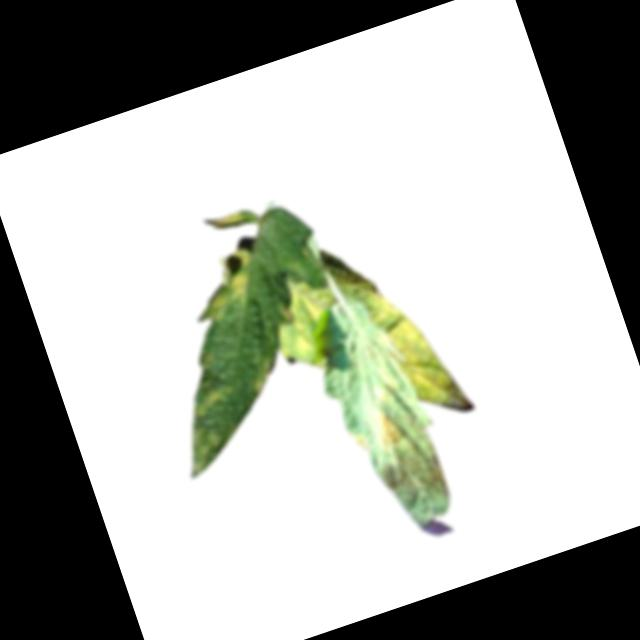Leaf_Mold: (366, 262, 477, 429), (263, 267, 350, 362), (188, 244, 269, 324), (368, 403, 403, 452), (244, 357, 280, 397)
